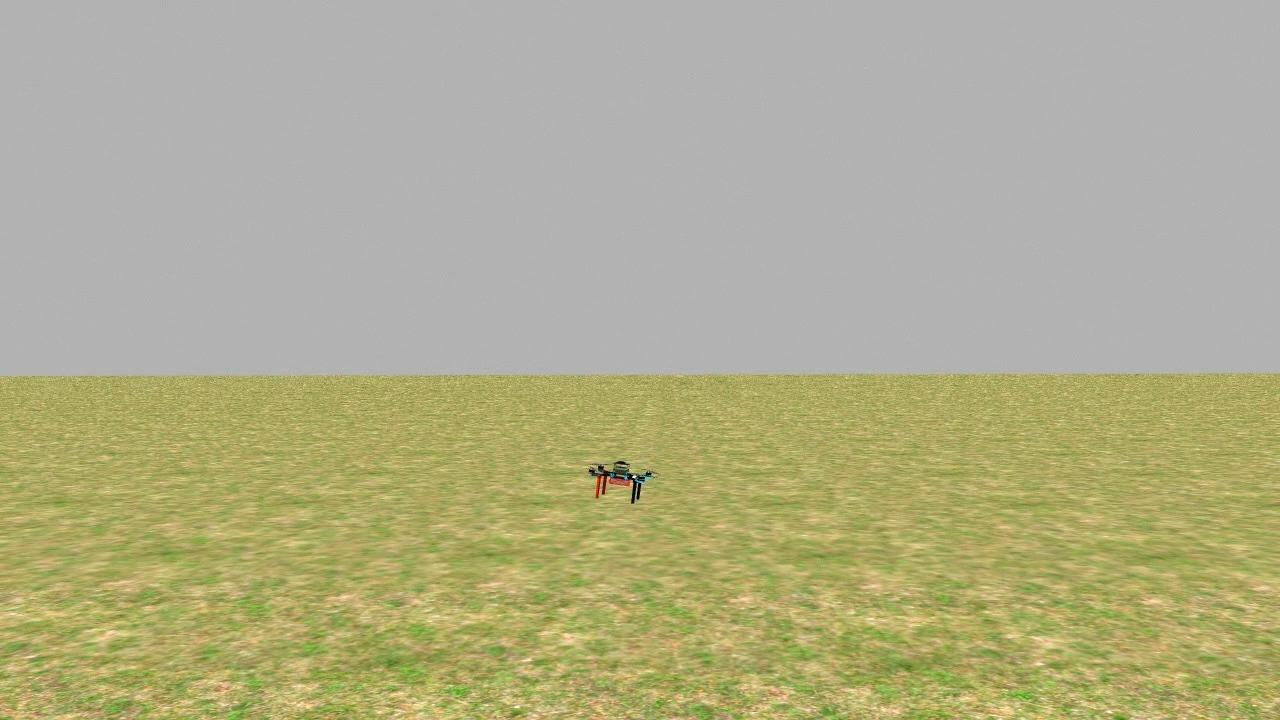UAV: (577, 447, 662, 516)
